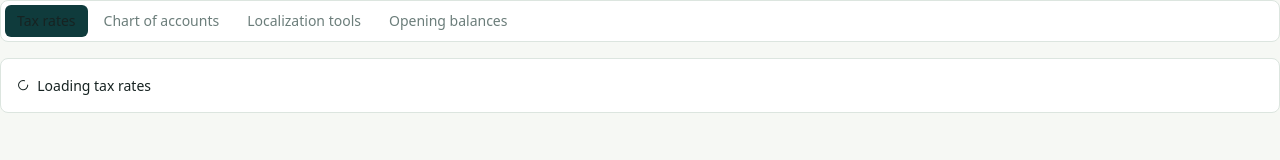
Test: FinanceMasterDataPanel › root › switches sub-panels when a tab is clicked
Step 1. Click the tab "Chart of accounts" → (161, 21), box left=92, top=5, right=231, bottom=36
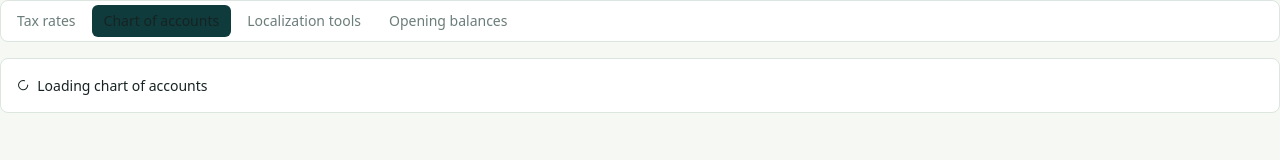
Now the text "Loading chart of accounts" is shown, box left=0, top=58, right=1279, bottom=112
